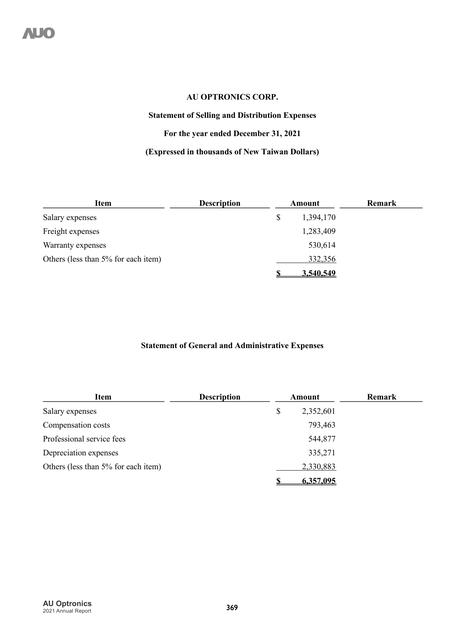box: (41, 389, 403, 488), (39, 197, 423, 284)
